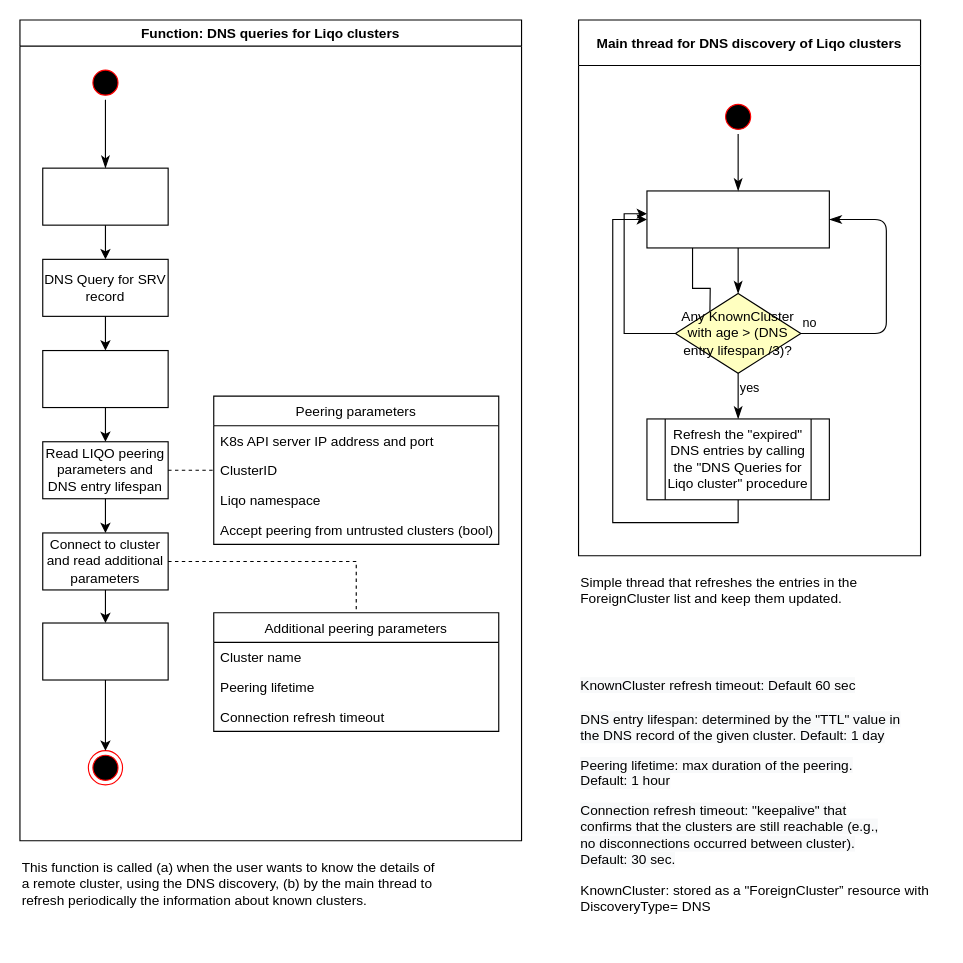
Image size: 963x963. Some labels were removed from this diagram. The shapes that lost their labels are listed below. From the top down, each one's centre as x and y in pixels, then its label:
At pixel 105 196: "DNS Query for PTR record".
At pixel 737 219: "Wait for KnownCluster refresh timeout".
At pixel 105 378: "DNS Query for A/AAAA/CNAME record(s)".
At pixel 105 651: "Update KnownCluster list".
